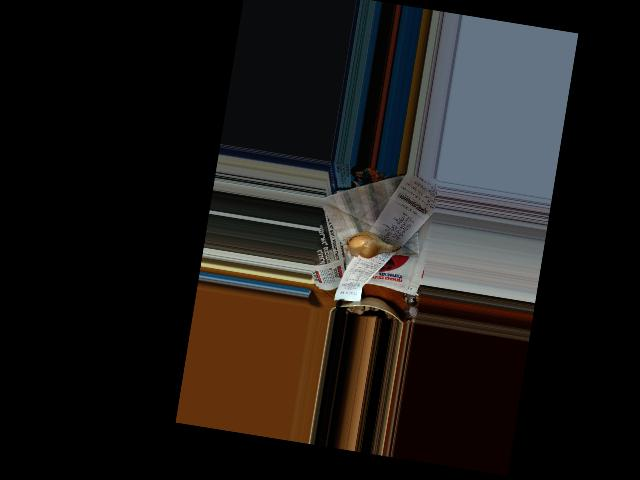onion: (345, 228, 395, 261)
